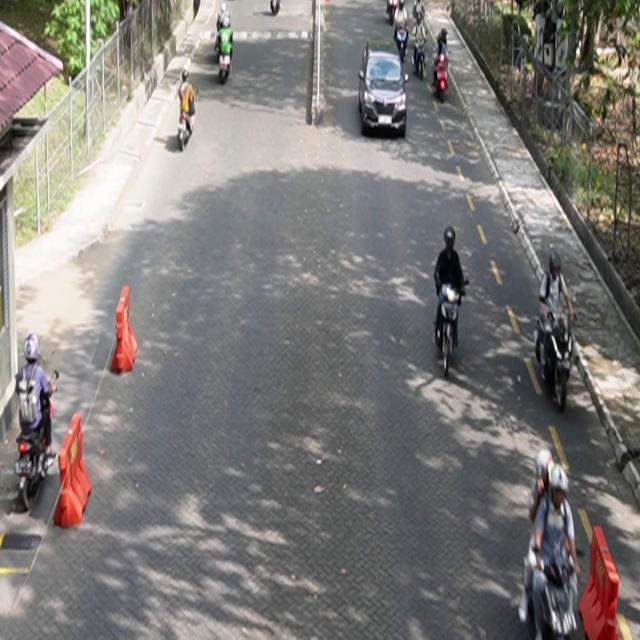car: (359, 40, 410, 139)
